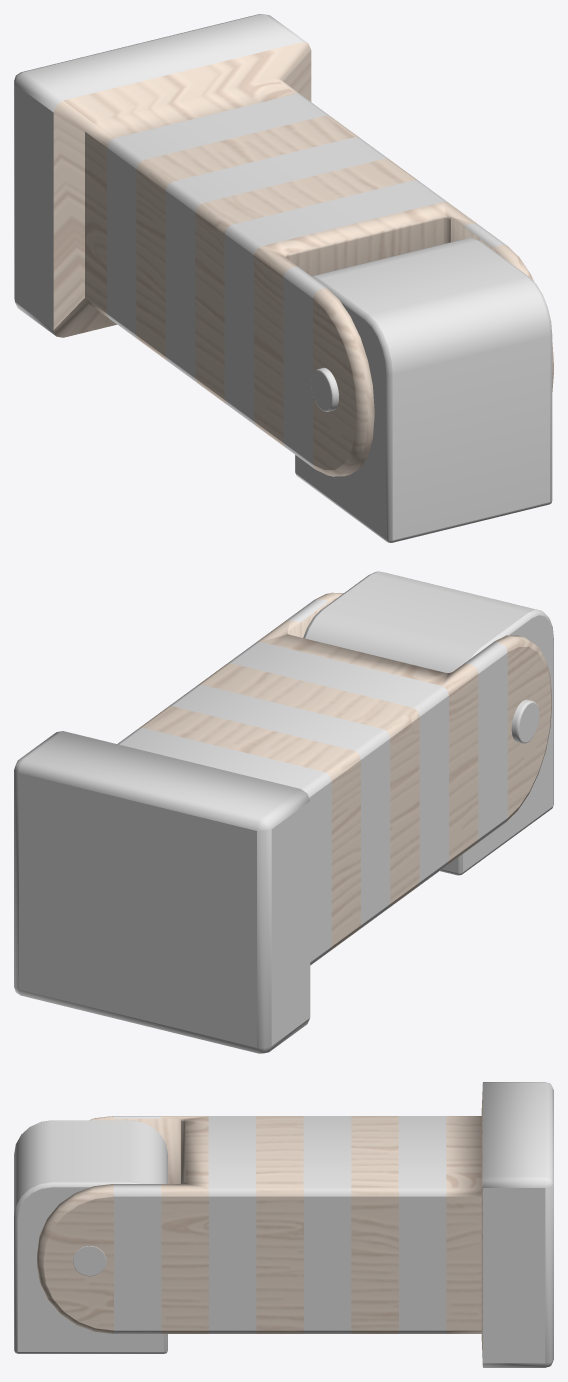
The model's file is new_barrier_new.fbx.
The picture shows the model from 3 angles, top to bottom: view 1: azimuth 30°, elevation 25°; view 2: azimuth 150°, elevation 25°; view 3: azimuth 270°, elevation 25°; orthographic projection. The views are drawn at different scales.
Parts seen in each view (by area): view 1: Arm, Gate, Peg; view 2: Arm, Gate, Peg; view 3: Arm, Gate, Peg.
Part boxes in pixels (x1,y1,x2,y2): Arm: [14, 14, 553, 476]; Gate: [295, 238, 552, 542]; Peg: [311, 367, 338, 411]; Arm: [14, 592, 551, 1053]; Gate: [303, 571, 553, 875]; Peg: [511, 699, 539, 743]; Arm: [37, 1082, 553, 1367]; Gate: [14, 1120, 167, 1353]; Peg: [73, 1246, 106, 1276].
Size of the model in its own units: 126 by 113 by 284.
